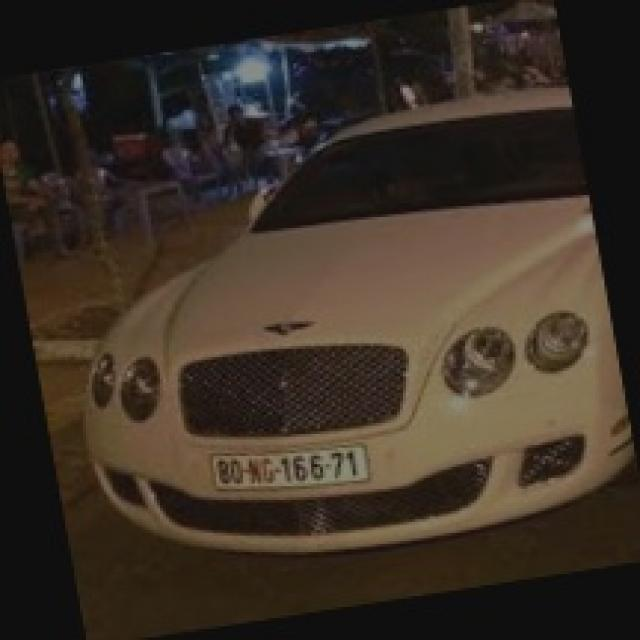bien_ngoai_giao: (214, 444, 371, 491)
